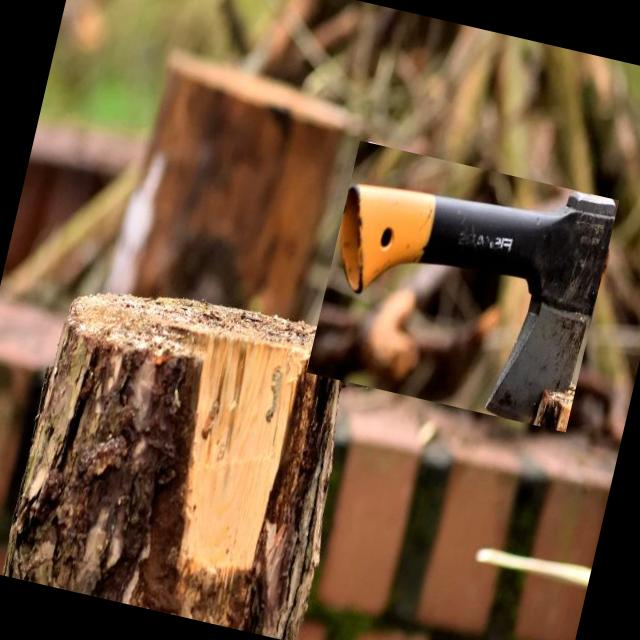Axe: (340, 184, 616, 423)
